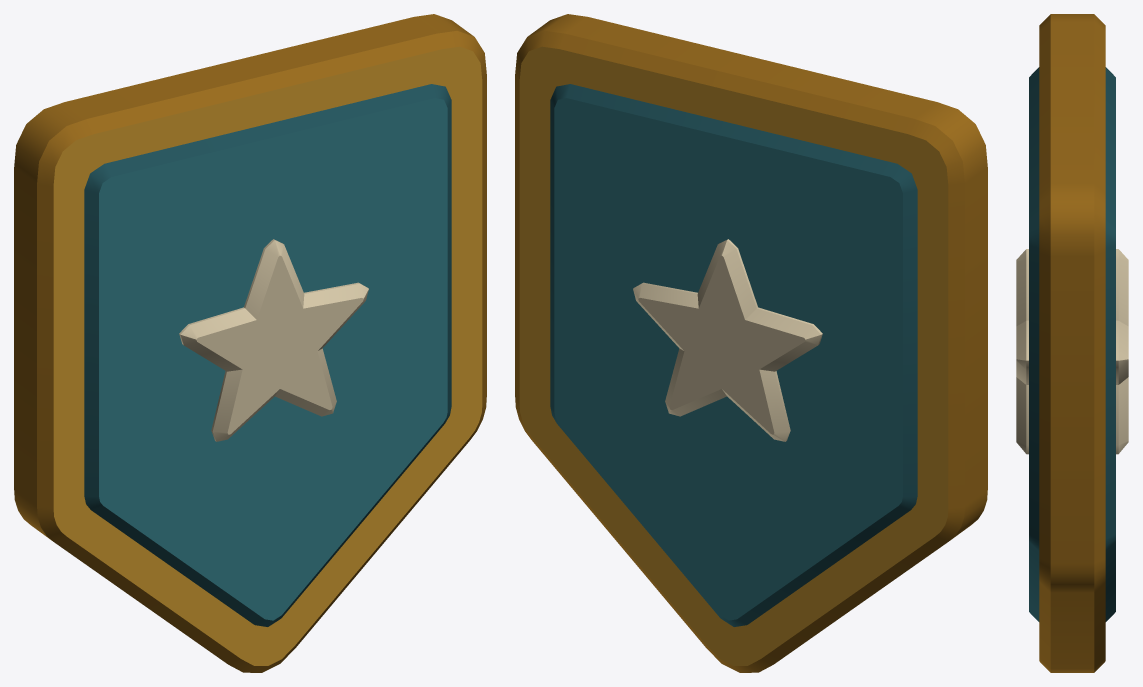
Rendered from Badge_09.glb.
3 views of the same model, side by side, from view 1: azimuth 30°, elevation 25°; view 2: azimuth 150°, elevation 25°; view 3: azimuth 270°, elevation 25° (orthographic). The views are drawn at different scales.
Parts seen in each view (by area): view 1: Badge_09; view 2: Badge_09; view 3: Badge_09.
Part boxes in pixels (x1,y1,x2,y2): Badge_09: (14,14,486,672); Badge_09: (515,14,987,672); Badge_09: (1016,14,1128,672).
Bounding box in the file's own units: 1.93 × 2.45 × 0.44.
